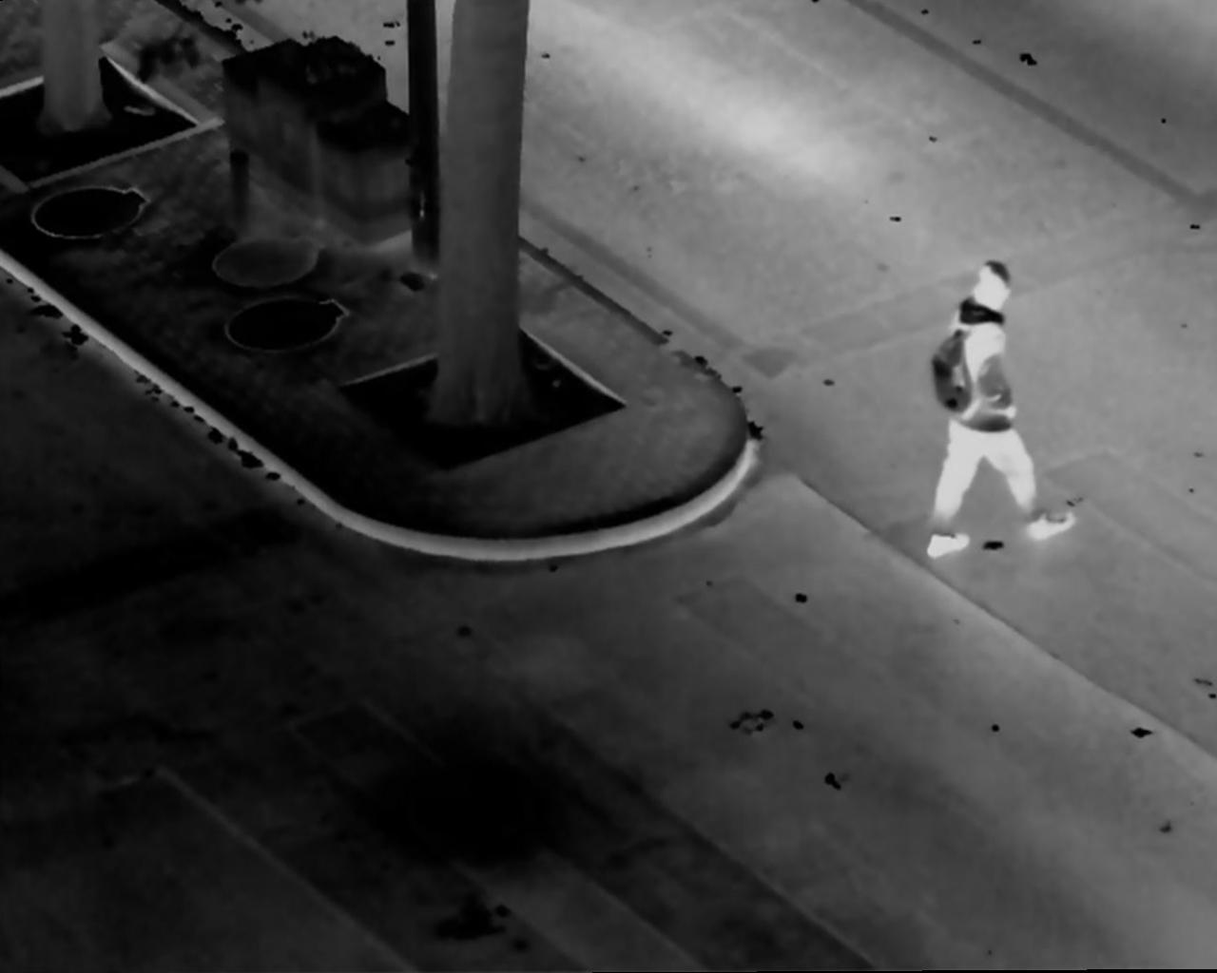person: (929, 261, 1083, 563)
